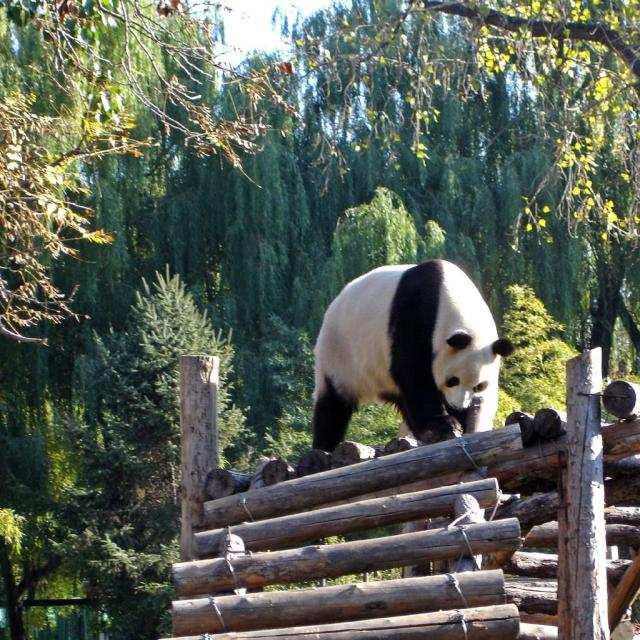panda: (315, 257, 513, 443)
